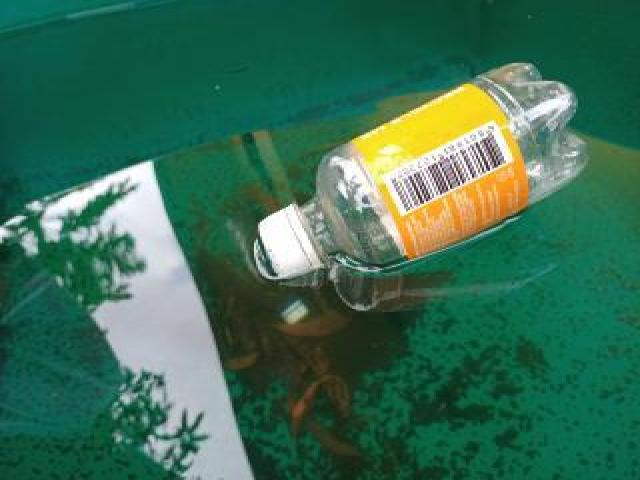Bottle: (250, 51, 600, 291)
